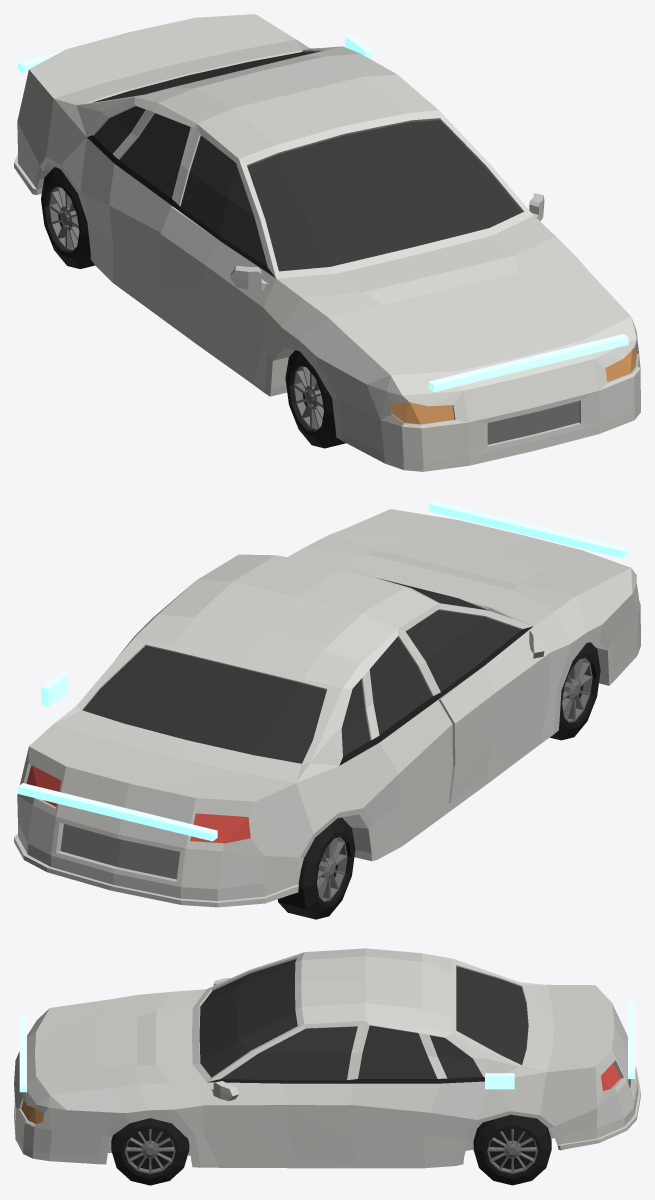
File: ev-hatch.glb
3 views of the same model, one above another, from view 1: azimuth 30°, elevation 25°; view 2: azimuth 150°, elevation 25°; view 3: azimuth 270°, elevation 25° (orthographic). The views are drawn at different scales.
Parts seen in each view (by area): view 1: NormalCar1; view 2: NormalCar1; view 3: NormalCar1.
Part boxes in pixels (x1,y1,x2,y2): NormalCar1: (14, 14, 640, 471); NormalCar1: (14, 500, 640, 919); NormalCar1: (14, 948, 640, 1185).
Size of the model in its own units: 1.81 by 1.18 by 4.22.
